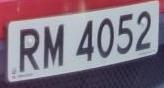0: (96, 13, 117, 62)
2: (134, 7, 154, 57)
4: (74, 13, 96, 70)
5: (115, 10, 136, 60)
M: (41, 20, 68, 70)
R: (14, 25, 42, 76)
